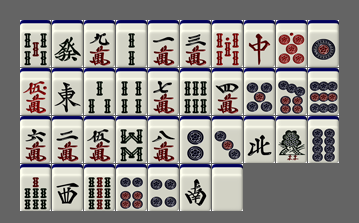0m: (20, 68, 51, 115)
0p: (276, 20, 307, 67)
0s: (212, 20, 243, 67)
1m: (148, 20, 179, 67)
1p: (308, 20, 339, 67)
1s: (276, 116, 307, 163)
1z: (52, 68, 83, 115)
2m: (52, 116, 83, 163)
2p: (180, 116, 211, 163)
2s: (116, 20, 147, 67)
2z: (180, 164, 211, 211)
3m: (180, 20, 211, 67)
3p: (212, 116, 243, 163)
3s: (84, 68, 115, 115)
3z: (52, 164, 83, 211)
4m: (212, 68, 243, 115)
4p: (148, 164, 179, 211)
4s: (116, 68, 147, 115)
4z: (244, 116, 275, 163)
5m: (84, 116, 115, 163)
5p: (244, 68, 275, 115)
5s: (20, 20, 51, 67)
5z: (212, 164, 243, 211)
6m: (20, 116, 51, 163)
6p: (116, 164, 147, 211)
6s: (180, 68, 211, 115)
6z: (52, 20, 83, 67)
7m: (148, 68, 179, 115)
7p: (276, 68, 307, 115)
7s: (20, 164, 51, 211)
7z: (244, 20, 275, 67)
8m: (148, 116, 179, 163)
8p: (308, 116, 339, 163)
8s: (116, 116, 147, 163)
9m: (84, 20, 115, 67)
9p: (308, 68, 339, 115)
9s: (84, 164, 115, 211)
